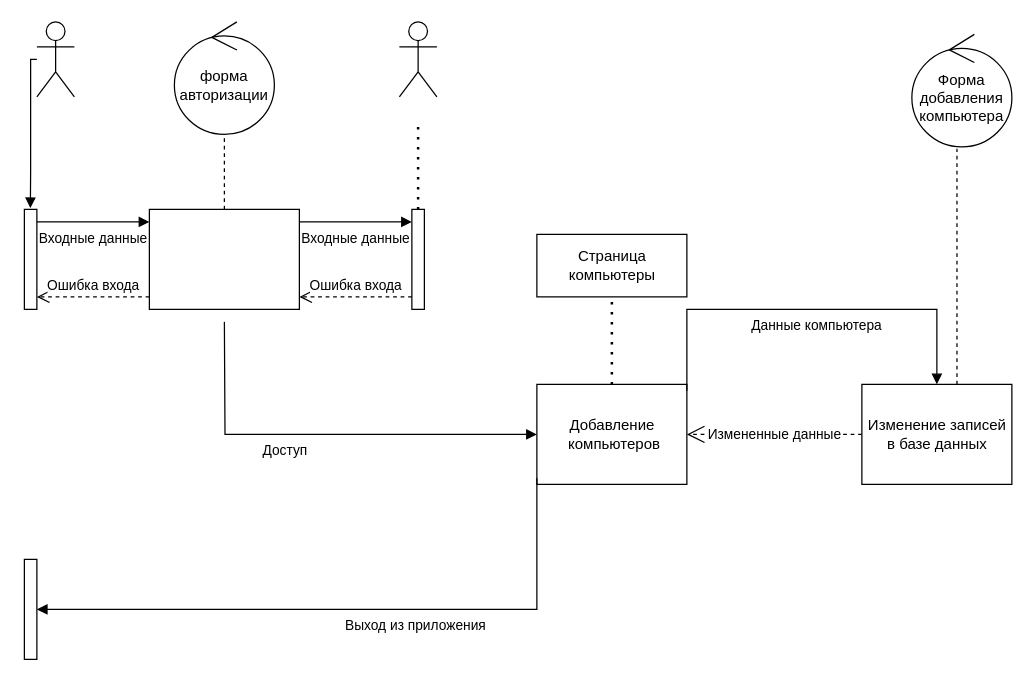
This 1035x681 diagram has some shape labels left out. Each missing label, with the centre of its shape:
"Администратор" goes at [417,59].
"Гость" goes at [55,59].
"Проверка входных данных" goes at [223,258].
